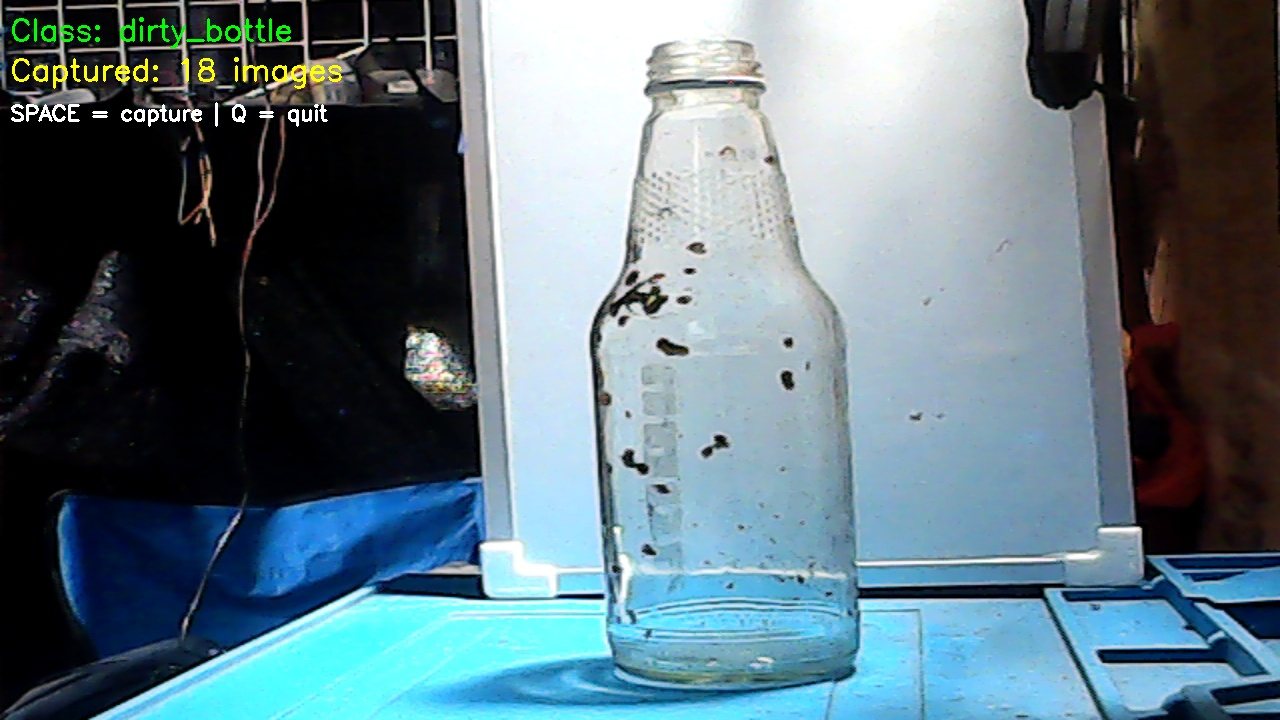dirty_bottle: (594, 46, 865, 684)
